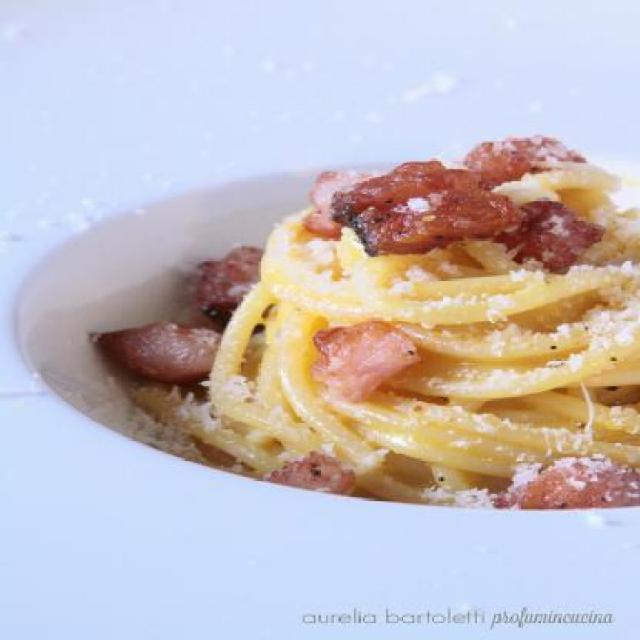Pasta with carbonara sauce: (128, 114, 640, 584)
